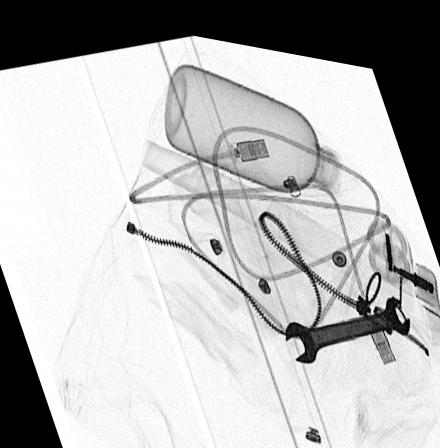Wrench: (284, 282, 410, 351)
